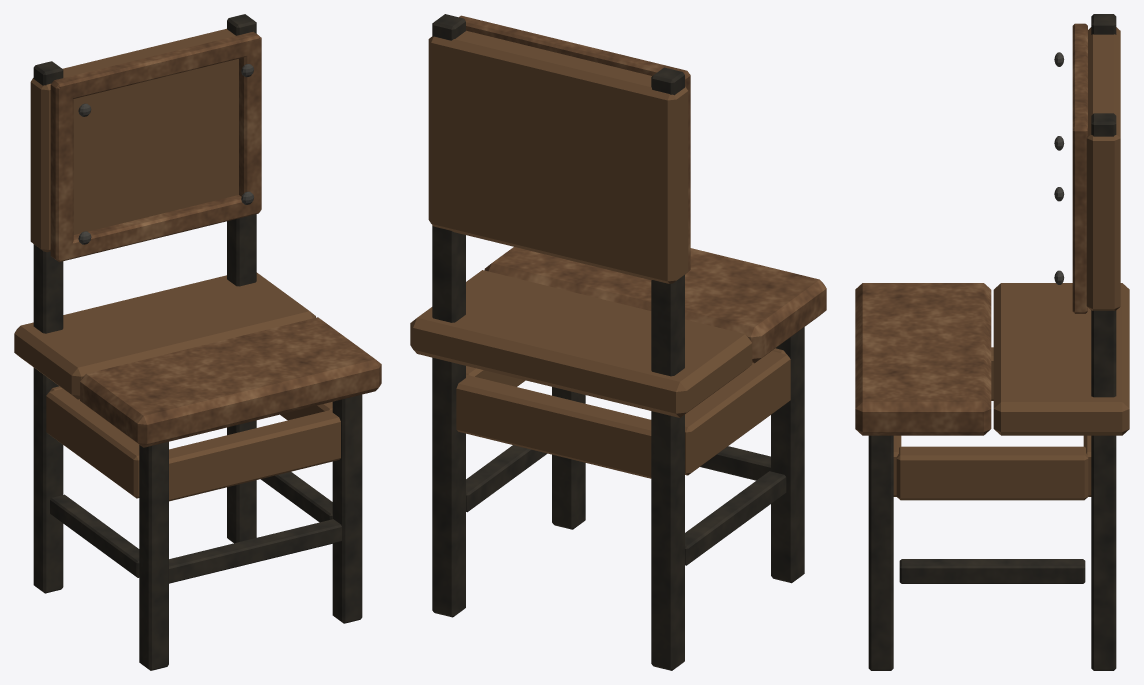
Rendered from Chair.glb.
3 renders of one model, left to right at view 1: azimuth 30°, elevation 25°; view 2: azimuth 150°, elevation 25°; view 3: azimuth 270°, elevation 25°, orthographic. The views are drawn at different scales.
Visible parts, largest first — view 1: Chair.001; view 2: Chair.001; view 3: Chair.001.
Boxes of the visible parts, x1,y1,x2,y2 form: Chair.001: [14, 14, 381, 670]; Chair.001: [410, 14, 826, 670]; Chair.001: [855, 14, 1129, 670].
Size of the model in its own units: 0.48 by 0.98 by 0.444.
Materials: 4 (4 with a texture image).
